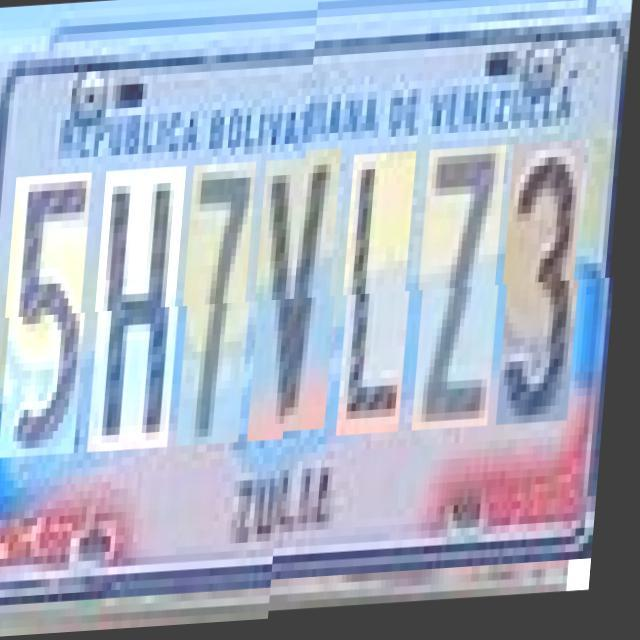3: (503, 156, 592, 440)
5: (6, 174, 100, 458)
7: (184, 165, 264, 449)
H: (95, 169, 193, 454)
L: (344, 165, 424, 449)
V: (254, 160, 348, 446)
Z: (418, 160, 512, 445)
